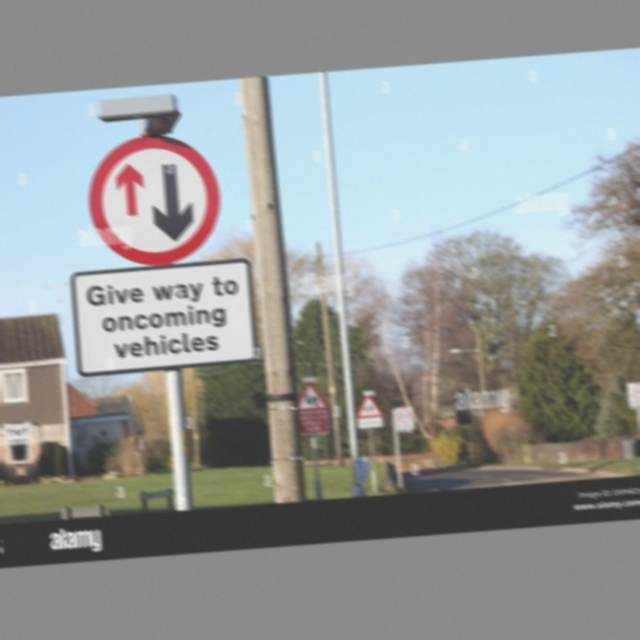Priority_for_Oncoming_Traffic: (84, 132, 223, 268)
